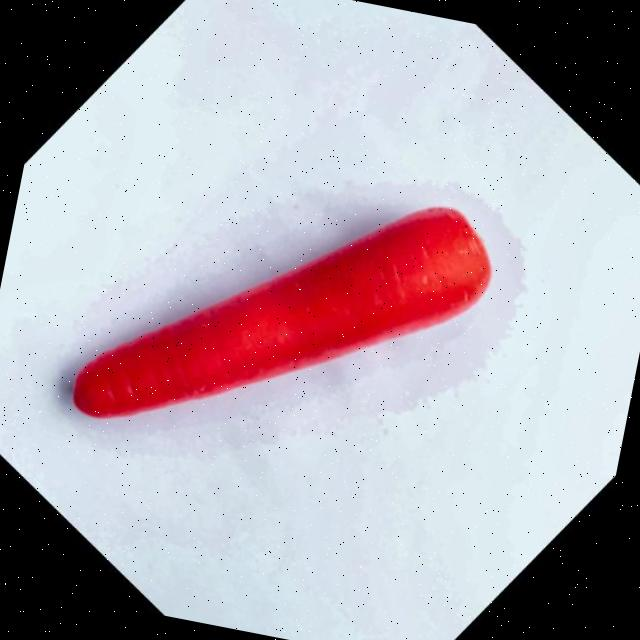carrot: (73, 207, 491, 417)
